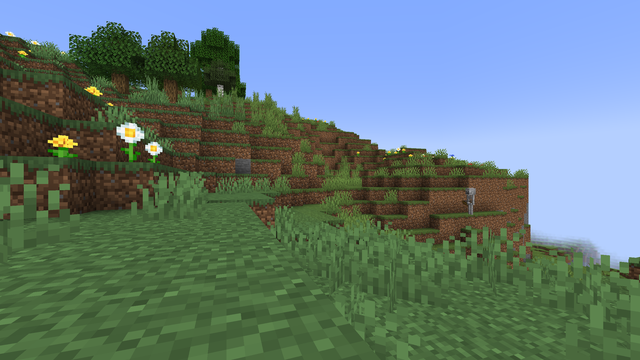squelettes: (464, 188, 476, 214)
